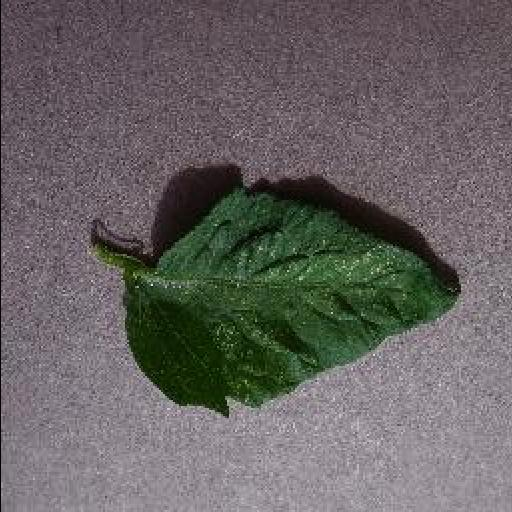disease_tomato: (118, 192, 456, 422)
